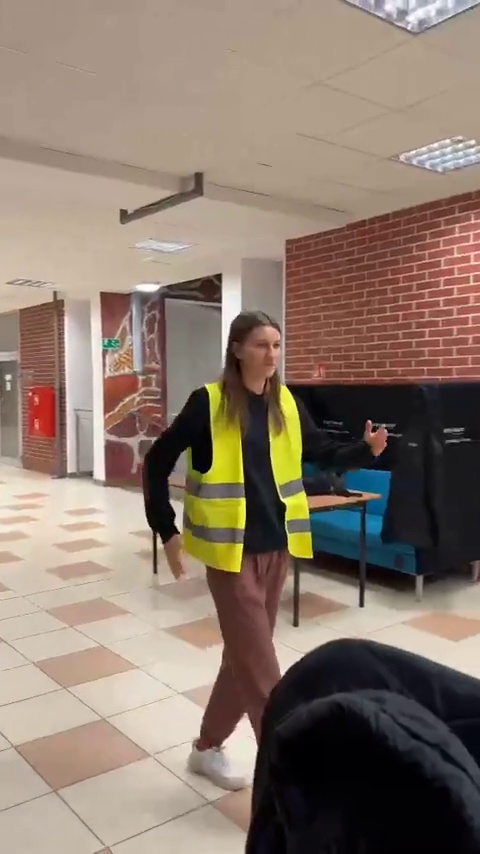vest: (145, 310, 378, 806)
